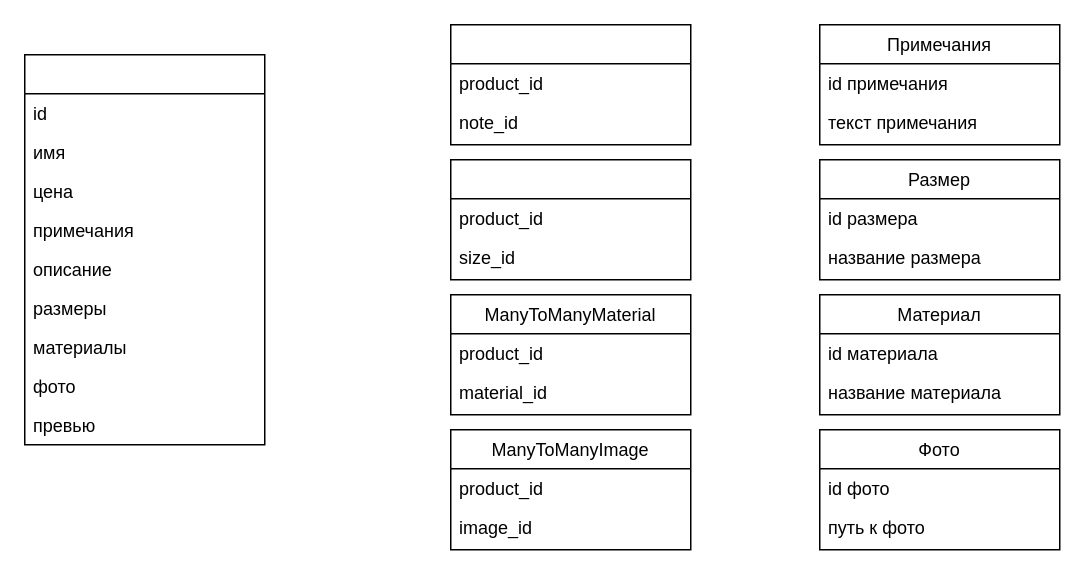
This 1085x575 diagram has some shape labels left out. Here are the shapes that lost their labels. From the top down, the box of each, then its label:
(449, 23, 691, 145): ManyToManyNote
(449, 158, 691, 280): ManyToManySize
(23, 53, 265, 445): Товар
